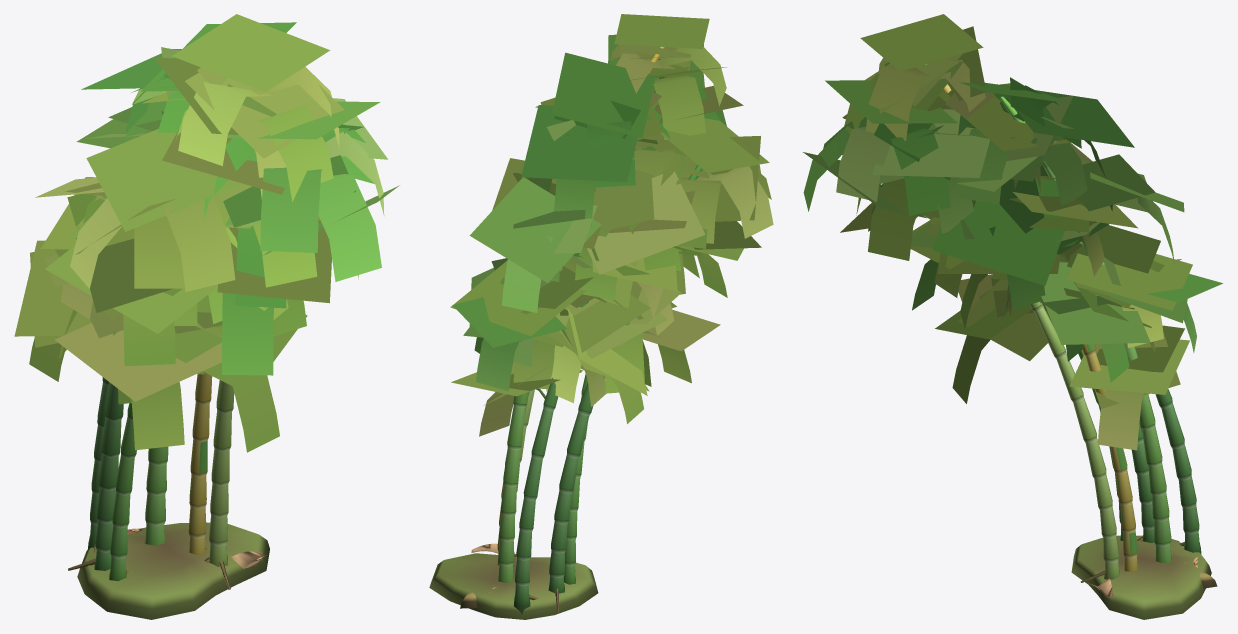
Rendered from tree-stand-arch-v0.glb.
3 renders of one model, left to right at view 1: azimuth 30°, elevation 25°; view 2: azimuth 150°, elevation 25°; view 3: azimuth 270°, elevation 25°, orthographic. The views are drawn at different scales.
Parts seen in each view (by area): view 1: culmLeaf, culm; view 2: culmLeaf, culm; view 3: culmLeaf, culm.
Boxes of the visible parts, x1,y1,x2,y2 form: culmLeaf: [14, 14, 399, 452]; culm: [68, 372, 269, 619]; culmLeaf: [450, 14, 773, 436]; culm: [429, 46, 702, 619]; culmLeaf: [803, 14, 1222, 450]; culm: [923, 63, 1217, 619].
Size of the model in its own units: 3.5 by 6.86 by 5.04.
